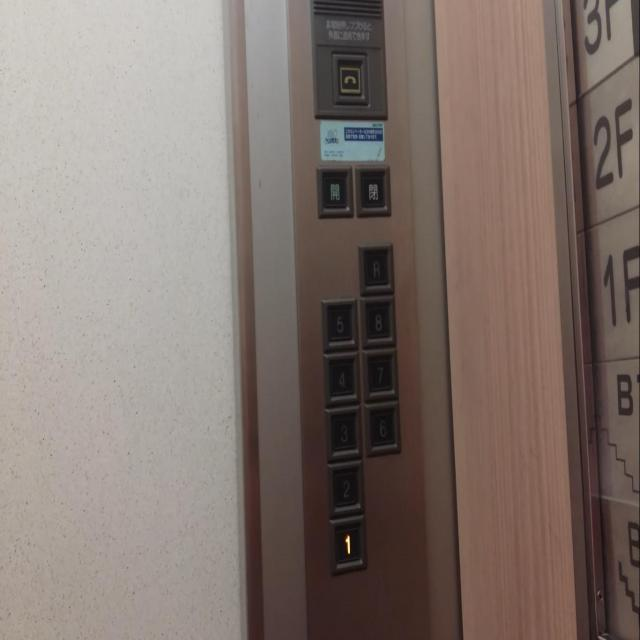1: (326, 515, 367, 577)
2: (324, 462, 365, 516)
3: (323, 406, 363, 464)
4: (322, 349, 362, 408)
5: (320, 294, 360, 354)
6: (363, 402, 402, 456)
7: (360, 348, 399, 404)
8: (358, 294, 398, 350)
R: (357, 241, 396, 296)
call: (338, 60, 362, 98)
text_close door: (353, 161, 393, 221)
text_open door: (314, 162, 355, 222)
